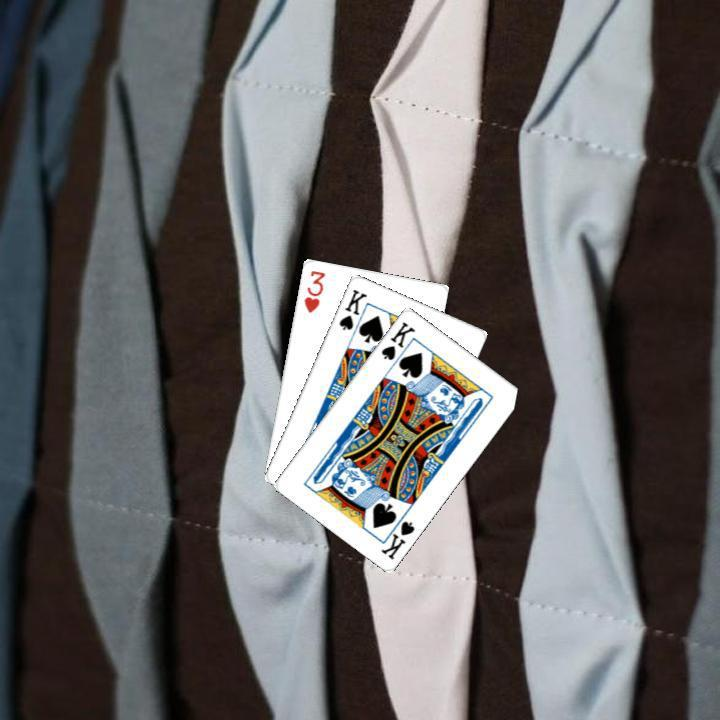3: (299, 266, 327, 315)
K: (376, 508, 417, 561), (377, 317, 417, 362), (334, 284, 369, 332)
